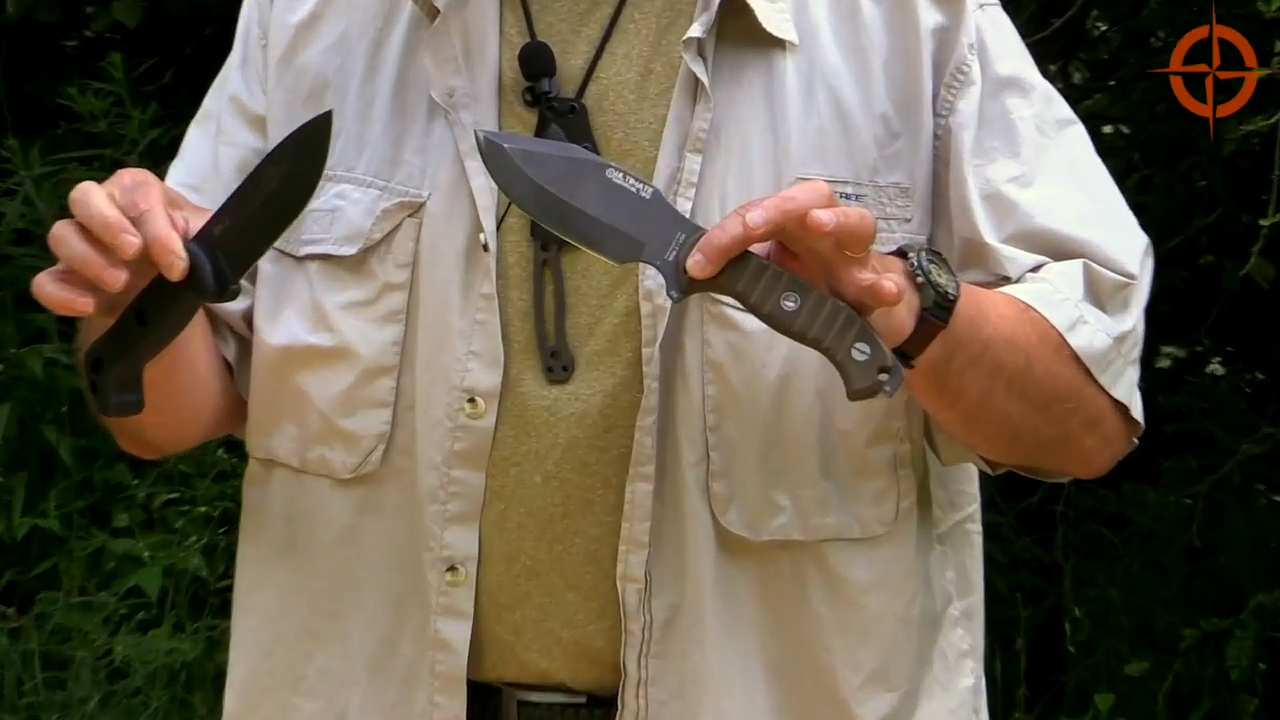knife: (461, 117, 903, 412), (77, 96, 344, 422)
